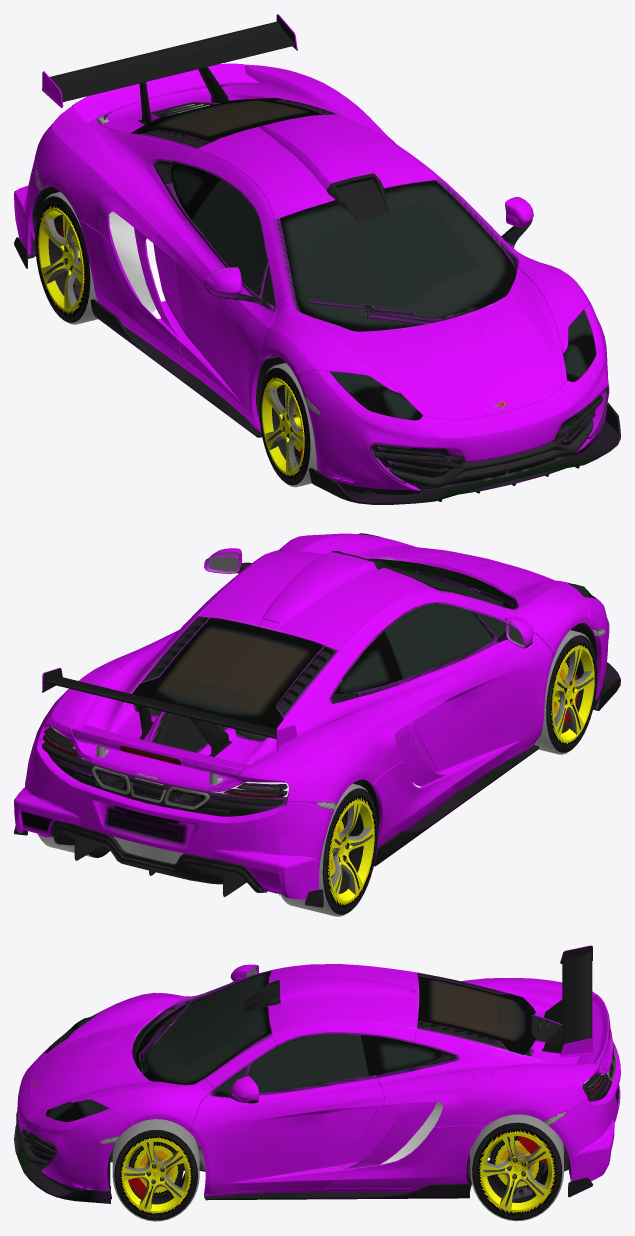
The picture shows the model from 3 angles, top to bottom: view 1: azimuth 30°, elevation 25°; view 2: azimuth 150°, elevation 25°; view 3: azimuth 270°, elevation 25°; orthographic projection. The views are drawn at different scales.
Parts seen in each view (by area): view 1: x0_main_bo, x0_window_003, x0_l1_bonn, x0_door_fr, x0_l1_bump005, x0_l2_spoi, x0_l1_bump002, x0_l2_bump007, x0_l2_bonn, x0_l2_spoi001, x0_wing_fr, x0_window_005 (+18 smaller); view 2: x0_main_bo, x0_door_fr, x0_window_, x0_l1_bump001, x0_l2_bump001, x0_window_005, x0_l2_spoi, x0_l2_spoi001, x0_wheel_b001, x0_l1_bump004, x0_wing_fr, x0_l1_bonn (+21 smaller); view 3: x0_main_bo, x0_door_fl, x0_window_003, x0_l1_bonn, x0_window_, x0_window_004, x0_l1_bump003, x0_l2_spoi, x0_wing_fl, x0_tyre_bl, x0_tyre_fl, x0_wheel_b (+20 smaller).
Part boxes in pixels (left/top/right/bottom): x0_main_bo: left=36, top=64, right=507, bottom=419; x0_window_003: left=280, top=180, right=516, bottom=331; x0_l1_bonn: left=312, top=267, right=566, bottom=419; x0_door_fr: left=152, top=216, right=277, bottom=432; x0_l1_bump005: left=296, top=370, right=442, bottom=493; x0_l2_spoi: left=41, top=14, right=297, bottom=124; x0_l1_bump002: left=413, top=387, right=571, bottom=488; x0_l2_bump007: left=412, top=403, right=589, bottom=501; x0_l2_bonn: left=324, top=280, right=566, bottom=419; x0_l2_spoi001: left=259, top=122, right=389, bottom=220; x0_wing_fr: left=260, top=296, right=400, bottom=393; x0_window_005: left=191, top=179, right=275, bottom=307; x0_main_bo: left=36, top=550, right=508, bottom=854; x0_door_fr: left=397, top=611, right=553, bottom=794; x0_window_: left=132, top=618, right=323, bottom=728; x0_l1_bump001: left=71, top=785, right=222, bottom=884; x0_l2_bump001: left=232, top=801, right=334, bottom=907; x0_window_005: left=384, top=604, right=506, bottom=678; x0_l2_spoi: left=42, top=668, right=297, bottom=756; x0_l2_spoi001: left=259, top=551, right=388, bottom=630; x0_wheel_b001: left=329, top=800, right=374, bottom=903; x0_l1_bump004: left=202, top=799, right=333, bottom=894; x0_wing_fr: left=505, top=581, right=590, bottom=657; x0_l1_bonn: left=314, top=537, right=560, bottom=603; x0_main_bo: left=204, top=964, right=612, bottom=1193; x0_door_fl: left=190, top=1063, right=384, bottom=1195; x0_window_003: left=134, top=971, right=271, bottom=1084; x0_l1_bonn: left=31, top=1002, right=177, bottom=1110; x0_window_: left=417, top=976, right=535, bottom=1054; x0_window_004: left=212, top=1034, right=368, bottom=1092; x0_l1_bump003: left=25, top=1108, right=132, bottom=1199; x0_l2_spoi: left=542, top=945, right=592, bottom=1057; x0_wing_fl: left=69, top=1077, right=214, bottom=1131; x0_tyre_bl: left=470, top=1114, right=563, bottom=1221; x0_tyre_fl: left=112, top=1119, right=199, bottom=1221; x0_wheel_b: left=480, top=1132, right=553, bottom=1211.
Bounding box in the file's own units: 1751 × 1154 × 3499.
Materials: 9 (6 with a texture image).
